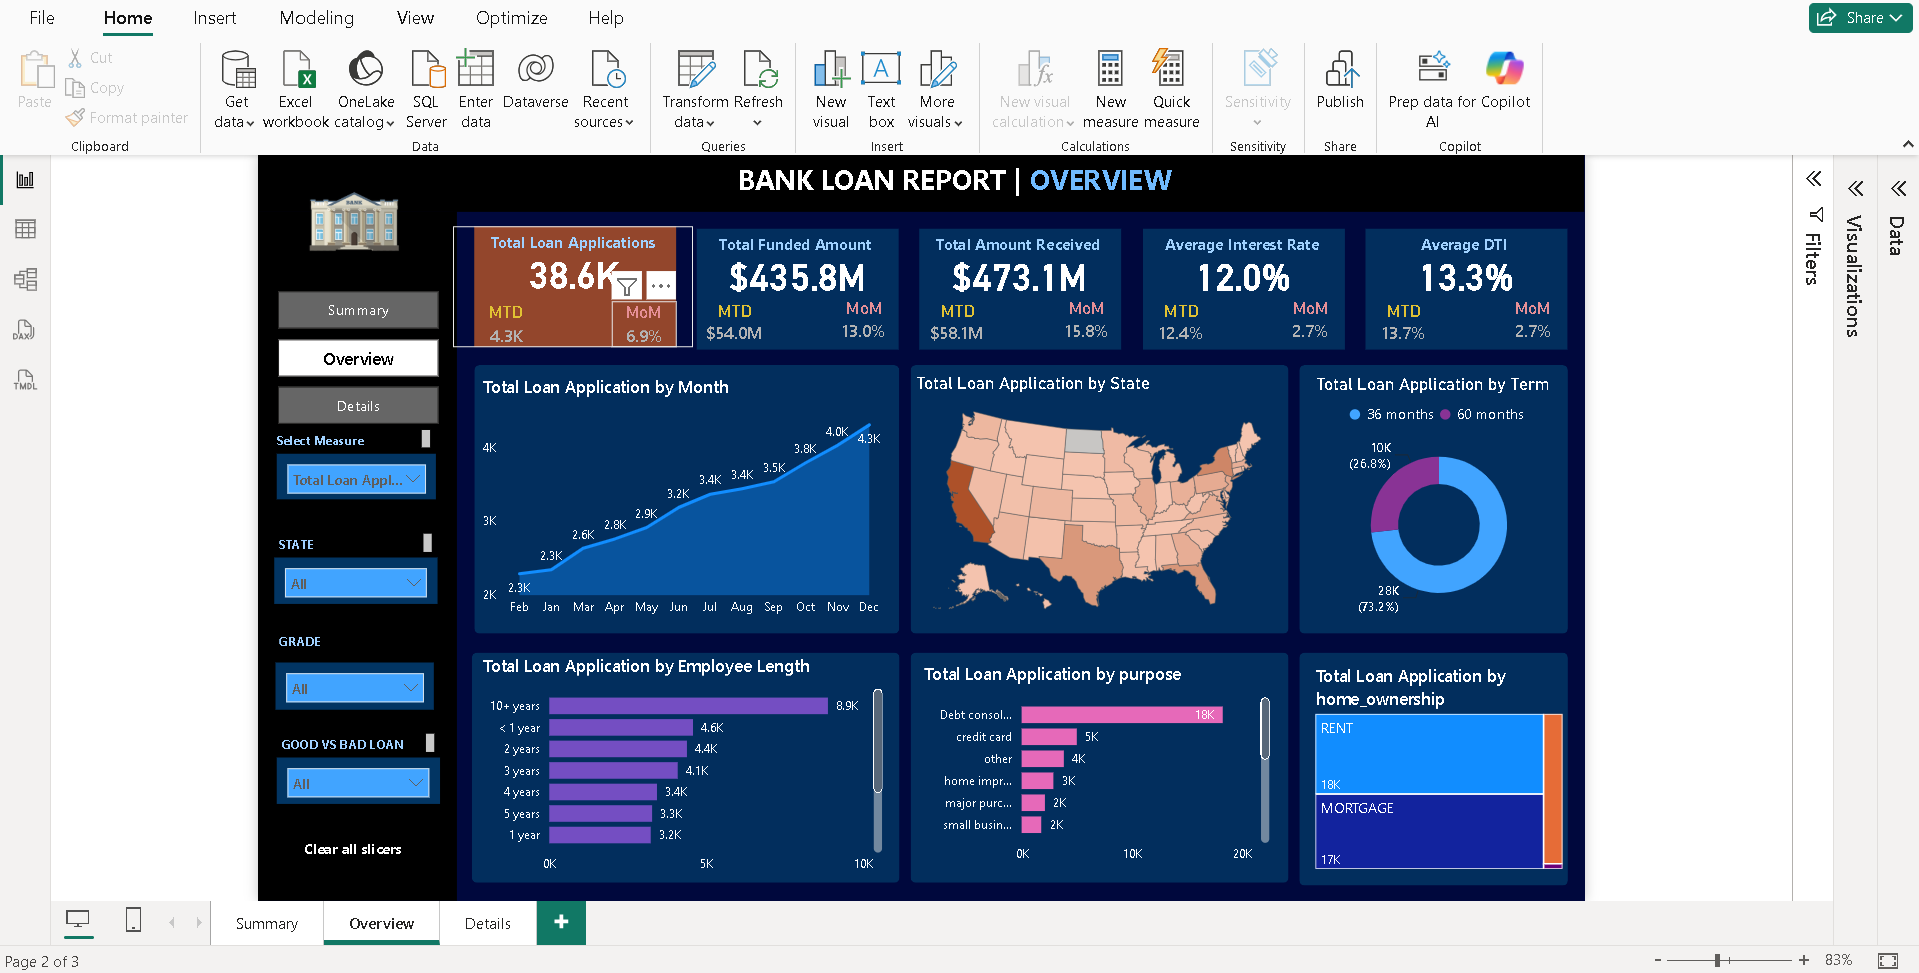

This screenshot's page, from the dashboard's own definition file:
{"tool":"powerbi","page":{"name":"Overview","canvas":[1280,720],"ordinal":1},"visuals":[{"type":"shape","box":[0,54.9,192.1,665.5],"z":0},{"type":"shape","box":[208.6,68.6,194.9,116.6],"z":0,"group":"g1"},{"type":"shape","box":[423.7,71.4,194.9,116.6],"z":0,"group":"g2"},{"type":"shape","box":[638.8,71.4,194.9,116.6],"z":0,"group":"g3"},{"type":"shape","box":[853.9,71.4,194.9,116.6],"z":0,"group":"g4"},{"type":"shape","box":[1069,71.4,194.9,116.6],"z":0,"group":"g5"},{"type":"shape","box":[0,0,1280.3,54.9],"z":1000},{"type":"card","fields":{"Values":["financial_loan.Total Loan Application"]},"box":[230.5,80.9,150.9,64.5],"z":1000,"group":"g1"},{"type":"card","fields":{"Values":["financial_loan.Total Funded Amount"]},"box":[445.6,83.7,150.9,64.5],"z":1000,"group":"g2"},{"type":"card","fields":{"Values":["financial_loan.Total Amount Received"]},"box":[660.7,83.7,150.9,64.5],"z":1000,"group":"g3"},{"type":"card","fields":{"Values":["financial_loan.Avg Interest Rate"]},"box":[875.8,83.7,150.9,64.5],"z":1000,"group":"g4"},{"type":"card","fields":{"Values":["financial_loan.Avg DTI"]},"box":[1090.9,83.7,150.9,64.5],"z":1000,"group":"g5"},{"type":"textbox","box":[188,68.6,231.9,32.9],"z":2000,"group":"g1"},{"type":"textbox","box":[403.1,71.4,231.9,32.9],"z":2000,"group":"g2"},{"type":"textbox","box":[618.2,71.4,231.9,32.9],"z":2000,"group":"g3"},{"type":"textbox","box":[833.3,71.4,231.9,32.9],"z":2000,"group":"g4"},{"type":"textbox","box":[1048.4,71.4,231.9,32.9],"z":2000,"group":"g5"},{"type":"shape","box":[208.6,203.1,410.3,259.3],"z":2000},{"type":"textbox","box":[419.9,0,505,50.8],"z":3000},{"type":"card","title":"MTD","fields":{"Values":["financial_loan.MTD Funded Amount"]},"box":[423.1,140,74.1,48],"z":3000,"group":"g2"},{"type":"card","title":"MTD","fields":{"Values":["financial_loan.MTD Total Amount Recieved"]},"box":[638.2,140,74.1,48],"z":3000,"group":"g3"},{"type":"card","title":"MTD","fields":{"Values":["financial_loan.MTD Average Int Rate"]},"box":[853.3,140,74.1,48],"z":3000,"group":"g4"},{"type":"card","title":"MTD","fields":{"Values":["financial_loan.MTD Average DTI"]},"box":[1068.4,140,74.1,48],"z":3000,"group":"g5"},{"type":"card","title":"MTD","fields":{"Values":["financial_loan.MTD Loan Application"]},"box":[208.6,141.3,61.7,43.9],"z":3000,"group":"g1"},{"type":"group","id":"g1","title":"Group 1","box":[188,68.6,231.9,116.6],"z":4000},{"type":"card","title":"MoM","fields":{"Values":["financial_loan.MoM Total Funded Amount"]},"box":[551.4,138.2,67.2,49.4],"z":4000,"group":"g2"},{"type":"card","title":"MoM","fields":{"Values":["financial_loan.MoM Total Amount Recieved"]},"box":[766.5,138.2,67.2,49.4],"z":4000,"group":"g3"},{"type":"card","title":"MoM","fields":{"Values":["financial_loan.MoM Avg Int Rate"]},"box":[981.6,138.2,67.2,49.4],"z":4000,"group":"g4"},{"type":"card","title":"MoM","fields":{"Values":["financial_loan.MoM Avg Int Rate"]},"box":[1196.7,138.2,67.2,49.4],"z":4000,"group":"g5"},{"type":"card","title":"MoM","fields":{"Values":["financial_loan.MoM Loan Application"]},"box":[341.7,141.3,61.7,43.9],"z":4000,"group":"g1"},{"type":"group","id":"g2","title":"Group 1","box":[403.1,71.4,231.9,116.7],"z":5000},{"type":"group","id":"g3","title":"Group 1","box":[618.2,71.4,231.9,116.6],"z":6000},{"type":"group","id":"g4","title":"Group 1","box":[833.3,71.4,231.9,116.6],"z":7000},{"type":"group","id":"g5","title":"Group 1","box":[1048.4,71.4,231.9,116.6],"z":8000},{"type":"textbox","box":[222.3,199,181.1,34.3],"z":9000},{"type":"slicer","fields":{"Values":["financial_loan.address_state"]},"box":[15.3,388.2,157.2,44.5],"z":10000},{"type":"slicer","fields":{"Values":["financial_loan.grade","financial_loan.purpose"]},"box":[16.7,489.7,153,45.9],"z":11000},{"type":"slicer","fields":{"Values":["financial_loan.Good vs Bad Loan"]},"box":[18.1,581.6,157.2,44.5],"z":12000},{"type":"textbox","box":[15.3,455,167,30.6],"z":13000},{"type":"textbox","box":[18.1,553.7,157.2,27.8],"z":14000},{"type":"areaChart","fields":{"Y":["financial_loan.Total Loan Application"],"Category":["Date Table.Month"]},"box":[212.7,211.3,395.2,242.9],"z":15000},{"type":"slicer","fields":{"Values":["Select Measure.Select Measure"]},"box":[17.8,288.2,153.7,43.9],"z":16000},{"type":"textbox","box":[13.7,260.7,157.8,27.4],"z":17000},{"type":"textbox","box":[15.3,360.3,157.2,27.8],"z":18000},{"type":"shape","box":[629.8,203.1,365,259.3],"z":19000},{"type":"shapeMap","fields":{"Value":["financial_loan.Total Loan Application"],"Category":["financial_loan.address_state"]},"box":[629.8,209.9,360.9,247],"z":20000},{"type":"shape","box":[1004.5,203.1,259.3,259.3],"z":21000},{"type":"donutChart","fields":{"Y":["financial_loan.Total Loan Application"],"Category":["financial_loan.term"]},"box":[1015.4,211.3,248.4,242.9],"z":22000},{"type":"shape","box":[205.8,480.3,413,222.3],"z":23000},{"type":"barChart","fields":{"Y":["financial_loan.Total Loan Application"],"Category":["financial_loan.emp_length"]},"box":[212.7,480.3,395.2,222.3],"z":24000},{"type":"shape","box":[629.8,480.3,365,222.3],"z":25000},{"type":"barChart","fields":{"Y":["financial_loan.Total Loan Application"],"Category":["financial_loan.purpose"]},"box":[638.1,488.5,343.1,204.5],"z":26000},{"type":"shape","box":[1004.5,480.3,259.3,225],"z":27000},{"type":"treemap","fields":{"Values":["financial_loan.Total Loan Application"],"Group":["financial_loan.home_ownership"]},"box":[1015.4,489.9,248.4,204.5],"z":28000},{"type":"pageNavigator","box":[19.2,131.7,155.1,129],"z":29000},{"type":"image","box":[23.3,0,140,137.2],"z":30000},{"type":"actionButton","box":[18.1,644.2,146.1,50.1],"z":30001}]}

Visuals, with their boxes on the page's 1280x720 design canvas (x1, y1, x2, y2). These are canvas units, not pixel positions in the 1919x973 screenshot, which may show the page scaled, cropped or inside an application window:
shape: detection(0, 55, 192, 720)
shape: detection(209, 69, 404, 185)
shape: detection(424, 71, 619, 188)
shape: detection(639, 71, 834, 188)
shape: detection(854, 71, 1049, 188)
shape: detection(1069, 71, 1264, 188)
shape: detection(0, 0, 1280, 55)
card - financial_loan.Total Loan Application: detection(230, 81, 381, 145)
card - financial_loan.Total Funded Amount: detection(446, 84, 596, 148)
card - financial_loan.Total Amount Received: detection(661, 84, 812, 148)
card - financial_loan.Avg Interest Rate: detection(876, 84, 1027, 148)
card - financial_loan.Avg DTI: detection(1091, 84, 1242, 148)
textbox: detection(188, 69, 420, 102)
textbox: detection(403, 71, 635, 104)
textbox: detection(618, 71, 850, 104)
textbox: detection(833, 71, 1065, 104)
textbox: detection(1048, 71, 1280, 104)
shape: detection(209, 203, 619, 462)
textbox: detection(420, 0, 925, 51)
"MTD" card: detection(423, 140, 497, 188)
"MTD" card: detection(638, 140, 712, 188)
"MTD" card: detection(853, 140, 927, 188)
"MTD" card: detection(1068, 140, 1142, 188)
"MTD" card: detection(209, 141, 270, 185)
"Group 1" group: detection(188, 69, 420, 185)
"MoM" card: detection(551, 138, 619, 188)
"MoM" card: detection(766, 138, 834, 188)
"MoM" card: detection(982, 138, 1049, 188)
"MoM" card: detection(1197, 138, 1264, 188)
"MoM" card: detection(342, 141, 403, 185)
"Group 1" group: detection(403, 71, 635, 188)
"Group 1" group: detection(618, 71, 850, 188)
"Group 1" group: detection(833, 71, 1065, 188)
"Group 1" group: detection(1048, 71, 1280, 188)
textbox: detection(222, 199, 403, 233)
slicer - financial_loan.address_state: detection(15, 388, 172, 433)
slicer - financial_loan.grade x financial_loan.purpose: detection(17, 490, 170, 536)
slicer - financial_loan.Good vs Bad Loan: detection(18, 582, 175, 626)
textbox: detection(15, 455, 182, 486)
textbox: detection(18, 554, 175, 582)
areaChart - financial_loan.Total Loan Application x Date Table.Month: detection(213, 211, 608, 454)
slicer - Select Measure.Select Measure: detection(18, 288, 172, 332)
textbox: detection(14, 261, 172, 288)
textbox: detection(15, 360, 172, 388)
shape: detection(630, 203, 995, 462)
shapeMap - financial_loan.Total Loan Application x financial_loan.address_state: detection(630, 210, 991, 457)
shape: detection(1004, 203, 1264, 462)
donutChart - financial_loan.Total Loan Application x financial_loan.term: detection(1015, 211, 1264, 454)
shape: detection(206, 480, 619, 703)
barChart - financial_loan.Total Loan Application x financial_loan.emp_length: detection(213, 480, 608, 703)
shape: detection(630, 480, 995, 703)
barChart - financial_loan.Total Loan Application x financial_loan.purpose: detection(638, 488, 981, 693)
shape: detection(1004, 480, 1264, 705)
treemap - financial_loan.Total Loan Application x financial_loan.home_ownership: detection(1015, 490, 1264, 694)
pageNavigator: detection(19, 132, 174, 261)
image: detection(23, 0, 163, 137)
actionButton: detection(18, 644, 164, 694)
